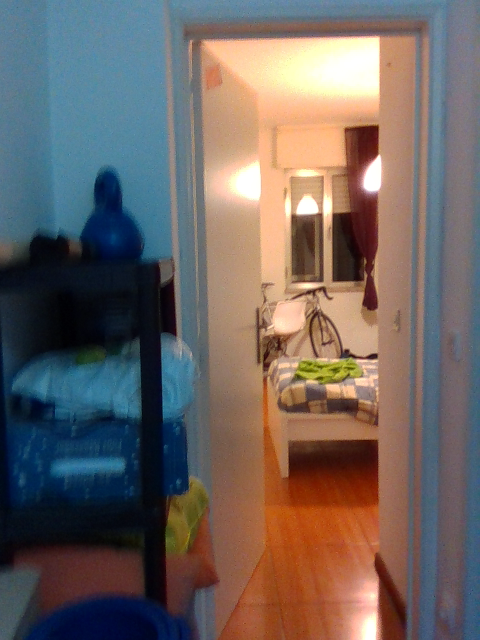open: (173, 11, 446, 639)
